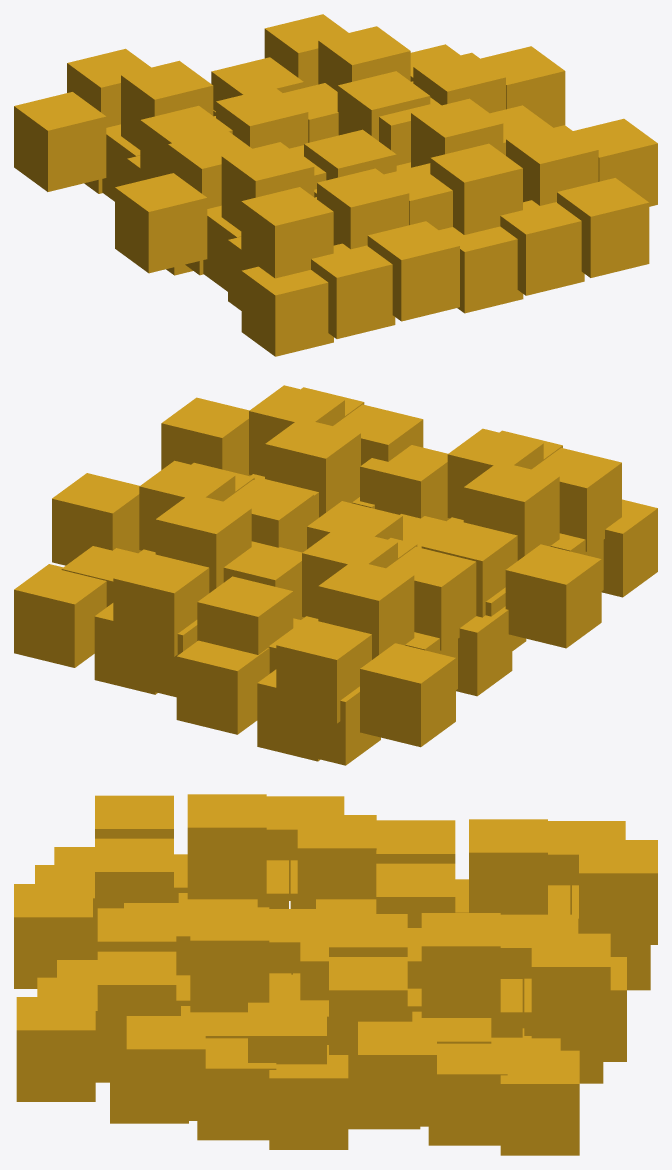
The model's file is cheese.fbx.
3 renders of one model, top to bottom at view 1: azimuth 30°, elevation 25°; view 2: azimuth 150°, elevation 25°; view 3: azimuth 270°, elevation 25°, orthographic. The views are drawn at different scales.
Visible parts, largest first — view 1: Cube; view 2: Cube; view 3: Cube.
Part boxes in pixels (x1=…): Cube: x1=14, y1=14, x2=657, y2=356; Cube: x1=14, y1=385, x2=657, y2=765; Cube: x1=14, y1=794, x2=657, y2=1155.
Size of the model in its own units: 389 by 127 by 408.
